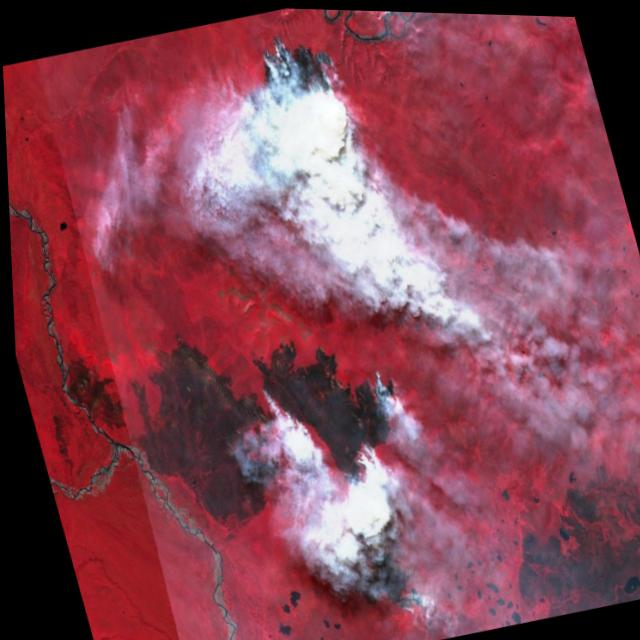fire: (245, 352, 428, 512), (209, 14, 362, 190), (360, 547, 424, 625)
